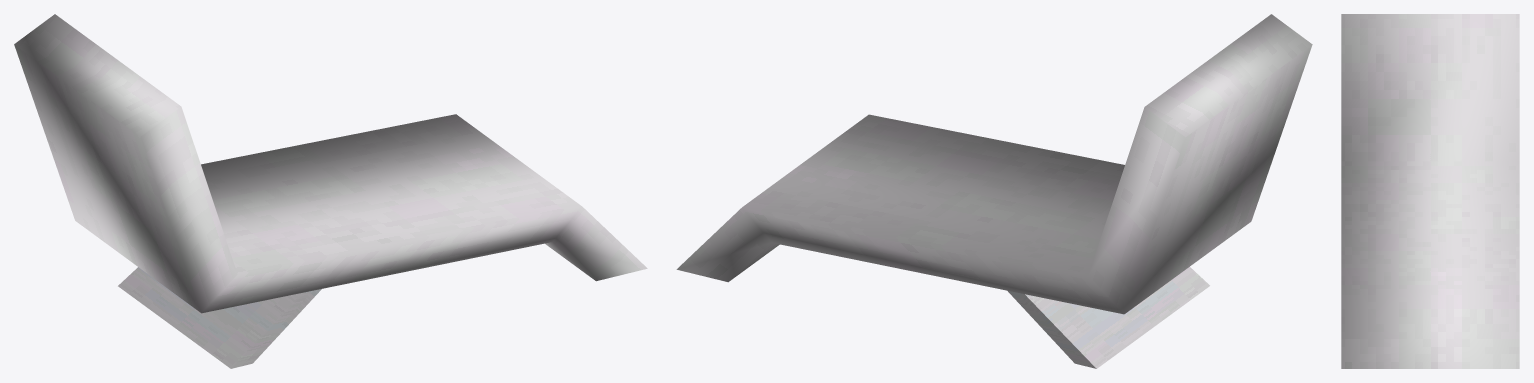
Rendered from frn_all_mdrn_love_seat_s01_l2.fbx.
3 renders of one model, left to right at view 1: azimuth 30°, elevation 25°; view 2: azimuth 150°, elevation 25°; view 3: azimuth 270°, elevation 25°, orthographic. The views are drawn at different scales.
Visible parts, largest first — view 1: mesh_node; view 2: mesh_node; view 3: mesh_node.
Boxes of the visible parts, x1,y1,x2,y2 form: mesh_node: (14,14,647,368); mesh_node: (676,14,1312,368); mesh_node: (1341,14,1519,368).
Bounding box in the file's own units: 2.35 × 1.24 × 1.02.
